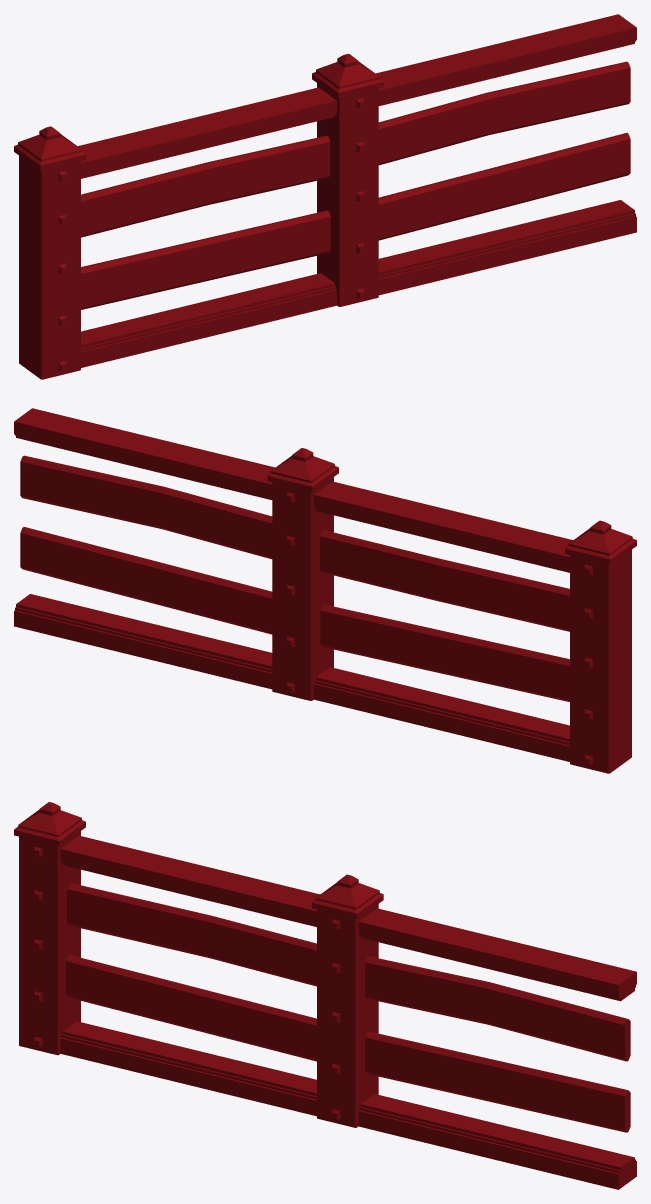
Rendered from SM_MH_01_Wood_GuardRail_01.fbx.
3 renders of one model, top to bottom at view 1: azimuth 30°, elevation 25°; view 2: azimuth 150°, elevation 25°; view 3: azimuth 330°, elevation 25°, orthographic.
Visible parts, largest first — view 1: SM_MH_01_Wood_GuardRail_01_LOD0; view 2: SM_MH_01_Wood_GuardRail_01_LOD0; view 3: SM_MH_01_Wood_GuardRail_01_LOD0.
Part boxes in pixels (x1,y1,x2,y2): SM_MH_01_Wood_GuardRail_01_LOD0: (14, 14, 636, 379); SM_MH_01_Wood_GuardRail_01_LOD0: (14, 408, 636, 773); SM_MH_01_Wood_GuardRail_01_LOD0: (14, 802, 636, 1189).
Size of what is drawn, in the model's own units: 303 by 115 by 24.12.
